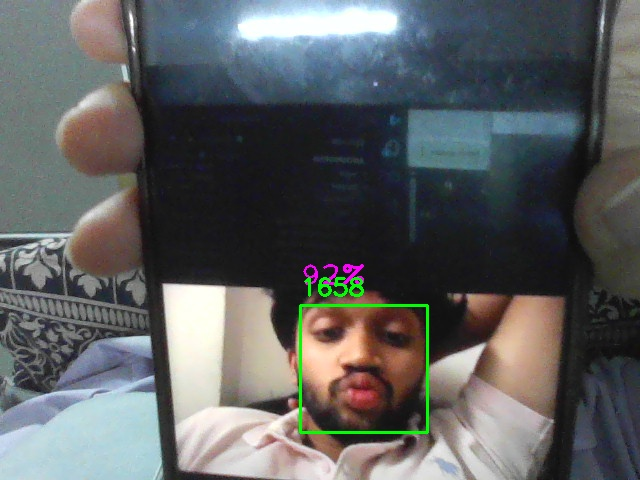fake: (300, 305, 428, 433)
